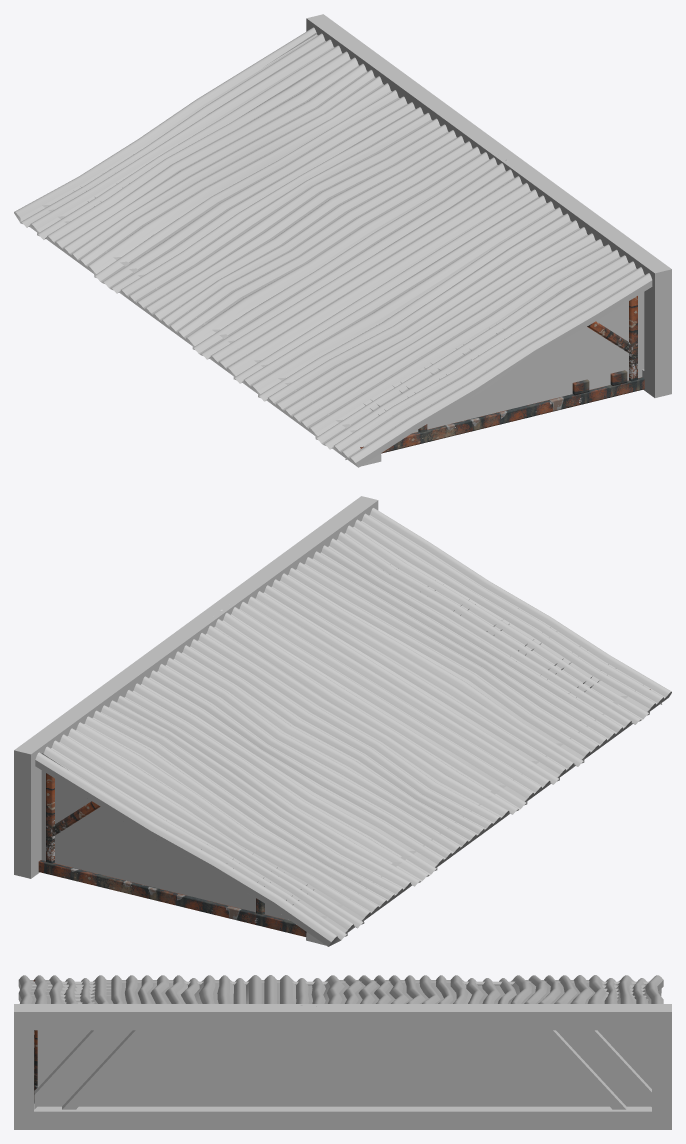
The model's file is SM_HouseRoof04.FBX.
The picture shows the model from 3 angles, top to bottom: view 1: azimuth 30°, elevation 25°; view 2: azimuth 150°, elevation 25°; view 3: azimuth 270°, elevation 25°; orthographic projection. The views are drawn at different scales.
Parts seen in each view (by area): view 1: SM_HouseRoof04; view 2: SM_HouseRoof04; view 3: SM_HouseRoof04.
Boxes of the visible parts, x1=… form: SM_HouseRoof04: x1=14, y1=14, x2=671, y2=467; SM_HouseRoof04: x1=14, y1=496, x2=671, y2=946; SM_HouseRoof04: x1=14, y1=975, x2=671, y2=1129.
Bounding box in the file's own units: 419 × 795 × 158.
